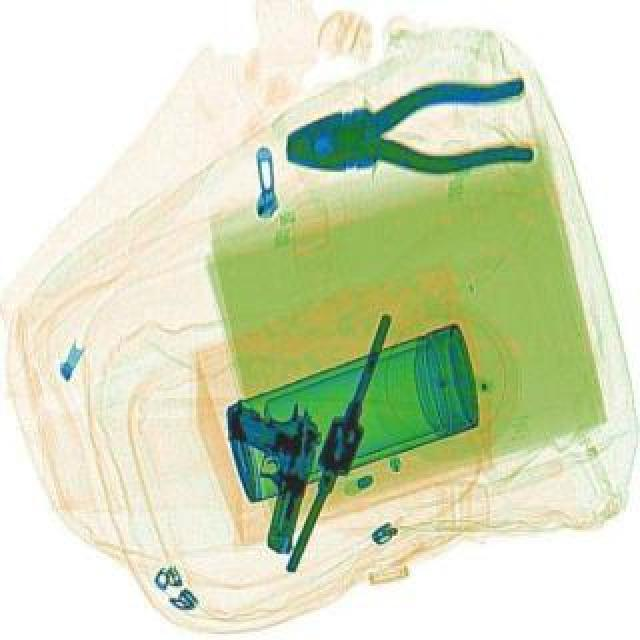gun: (194, 384, 328, 554)
wrench: (276, 70, 536, 196)
